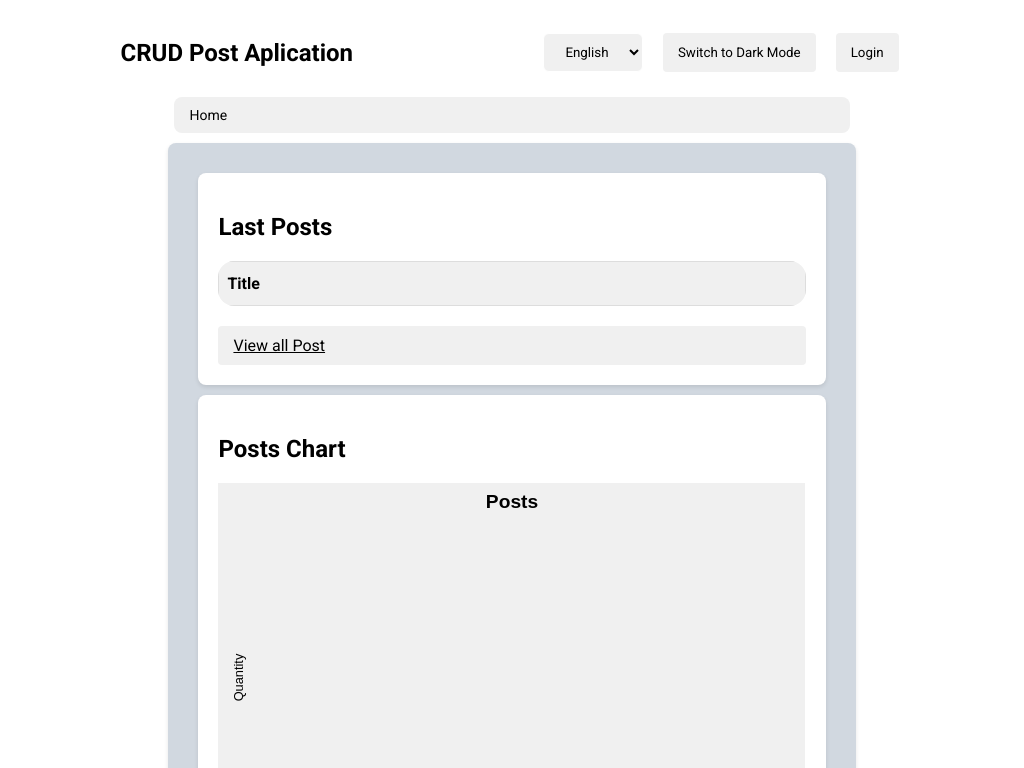
Home Page › should display the h2 title in Spanish
Select "Español" in the dropdown. click: (593, 53)
box: [543,33,643,72]
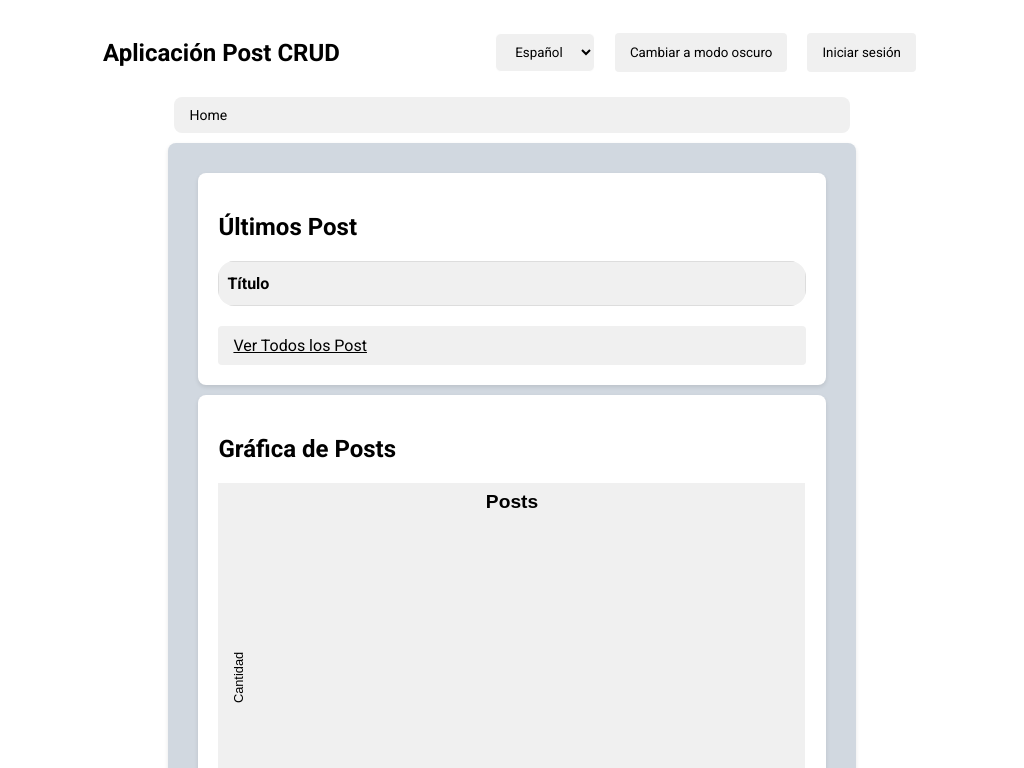
Result: the heading "Últimos Post" is shown at [218,213,357,241]
